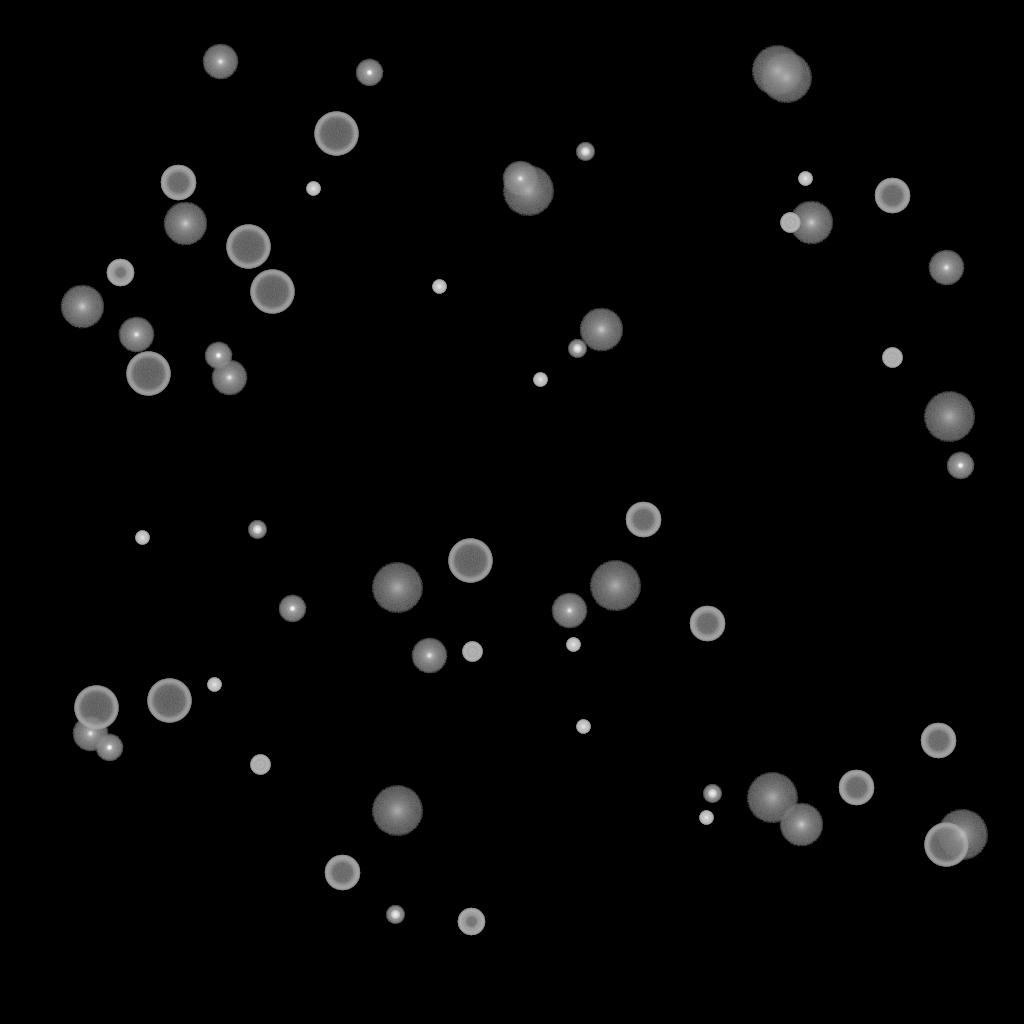depth:-10: (355, 59, 383, 87), (946, 452, 974, 480), (278, 595, 306, 623), (204, 342, 232, 370), (95, 734, 123, 762)
depth:-20: (568, 340, 586, 358), (703, 785, 721, 803), (248, 521, 266, 539), (386, 906, 404, 924), (576, 143, 594, 161)
depth:-30: (135, 531, 149, 545), (566, 638, 580, 652), (306, 182, 320, 196), (576, 720, 590, 734), (798, 172, 812, 186), (432, 280, 446, 294), (533, 373, 547, 387), (207, 678, 221, 692), (699, 811, 713, 825)
depth:-40: (882, 348, 902, 368), (250, 755, 270, 775), (462, 642, 482, 662), (780, 213, 800, 233)
depth:-50: (457, 908, 485, 936), (106, 259, 134, 287)
depth:-60: (920, 723, 956, 759), (625, 502, 661, 538), (160, 165, 196, 201), (874, 178, 910, 214), (838, 770, 874, 806), (324, 855, 360, 891), (689, 606, 725, 642)
depth:-70: (448, 539, 492, 583), (226, 225, 270, 269), (126, 352, 170, 396), (250, 270, 294, 314), (147, 679, 191, 723), (74, 686, 118, 730), (924, 823, 968, 867), (314, 112, 358, 156)
depth:0: (72, 716, 108, 752), (928, 250, 964, 286), (551, 593, 587, 629), (202, 44, 238, 80), (118, 317, 154, 353), (502, 161, 538, 197), (411, 638, 447, 674), (211, 360, 247, 396)
depth:10: (579, 308, 623, 352), (163, 202, 207, 246), (60, 285, 104, 329), (779, 803, 823, 847), (789, 201, 833, 245)
depth:20: (589, 561, 641, 611), (371, 563, 423, 613), (502, 166, 554, 216), (936, 810, 988, 860), (923, 392, 975, 442), (371, 786, 423, 836), (751, 46, 803, 96), (760, 53, 812, 103), (746, 773, 798, 823)
